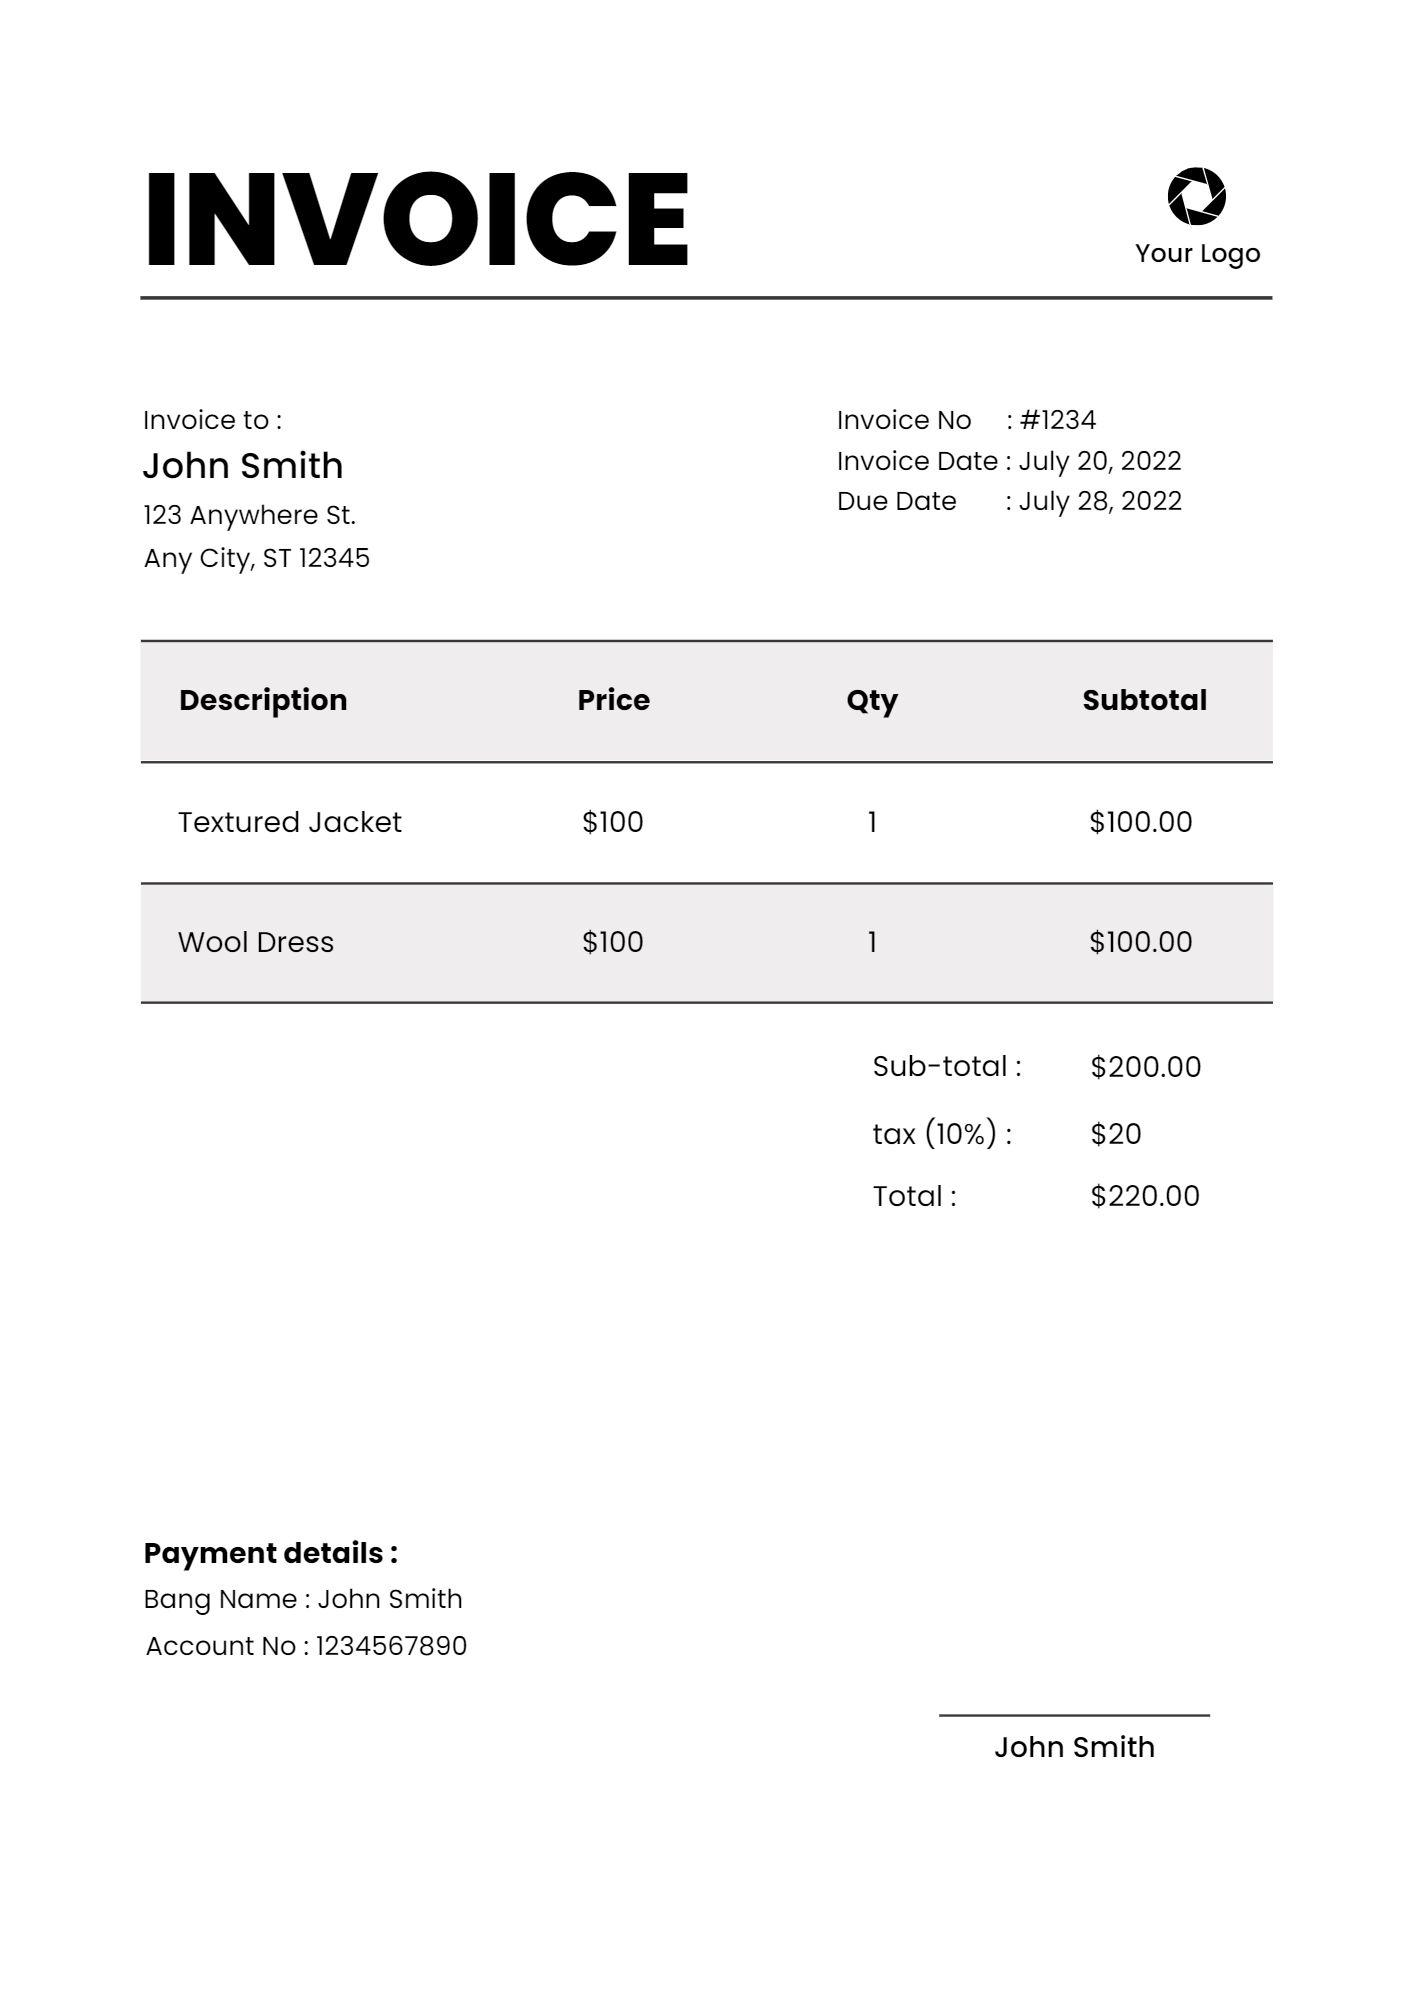ROI: (141, 628, 1269, 1010)
